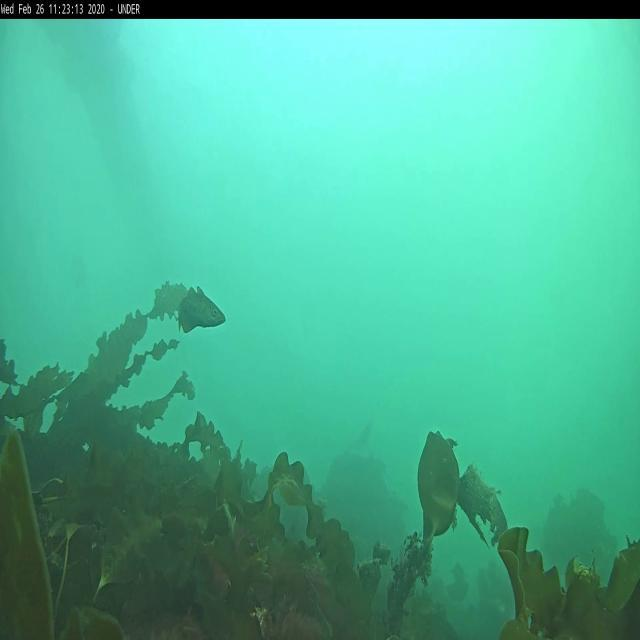fish: (178, 288, 226, 329)
